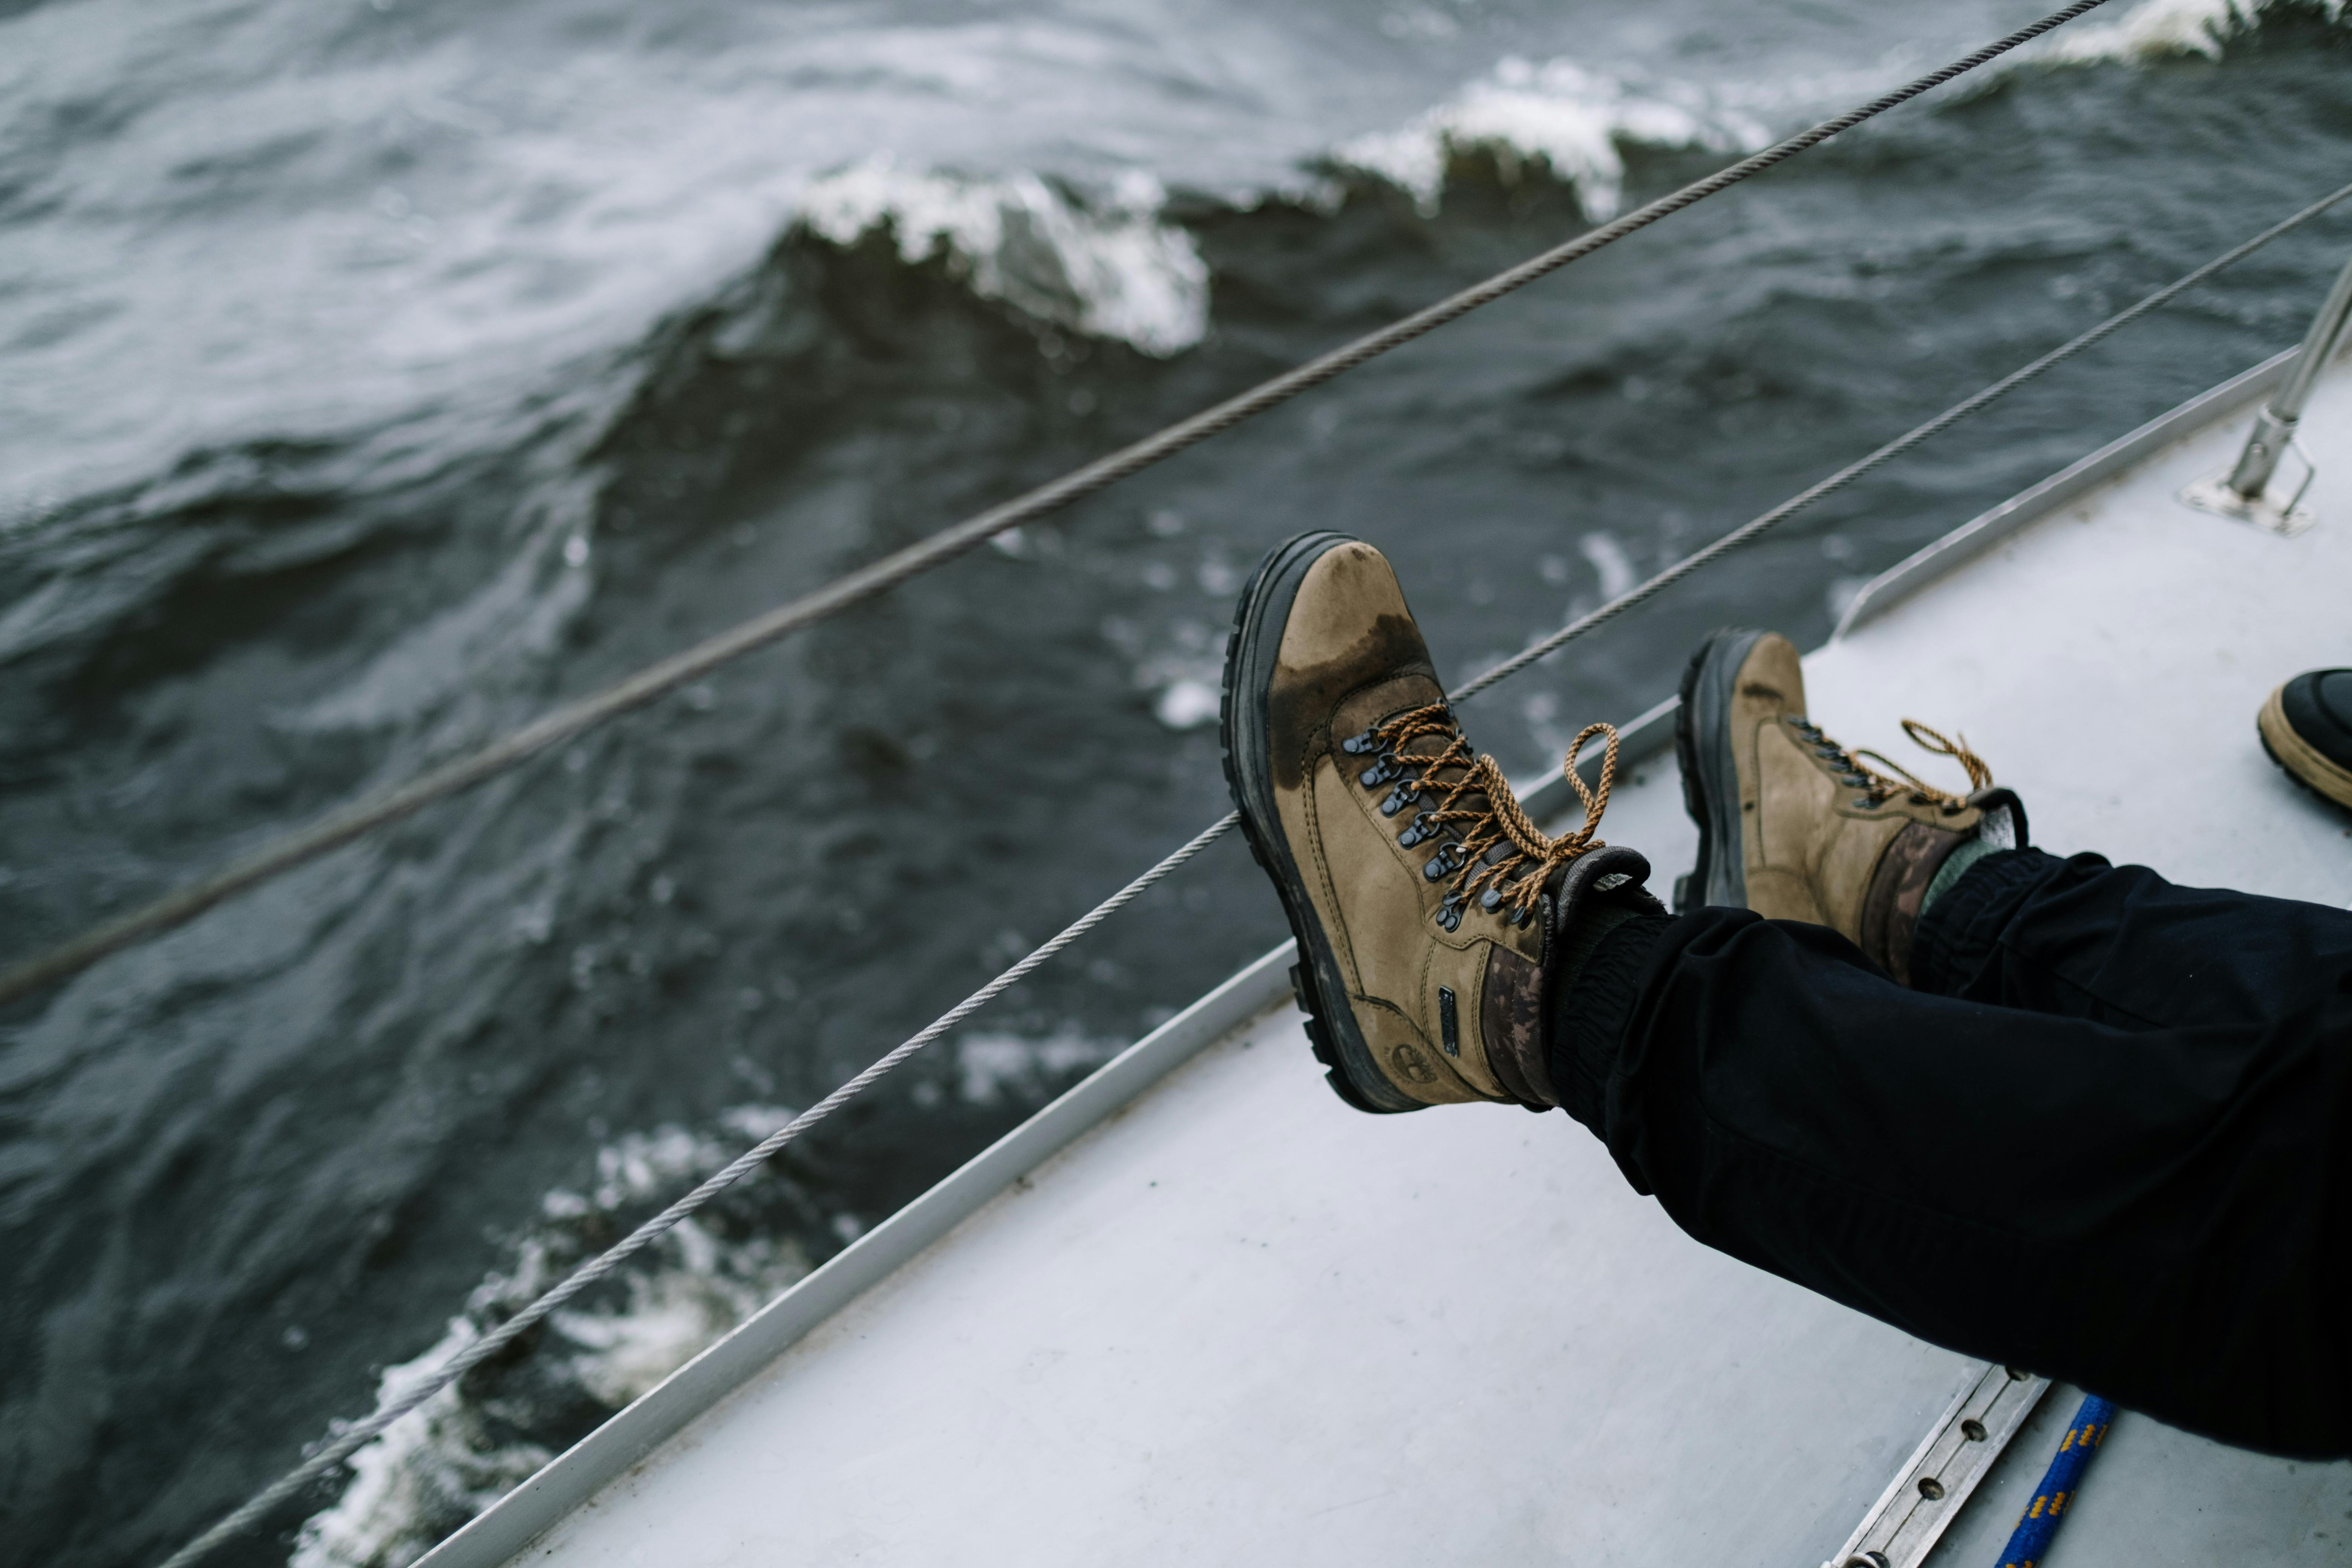Footwear: (1082, 509, 1629, 1111), (1629, 588, 2026, 936)
